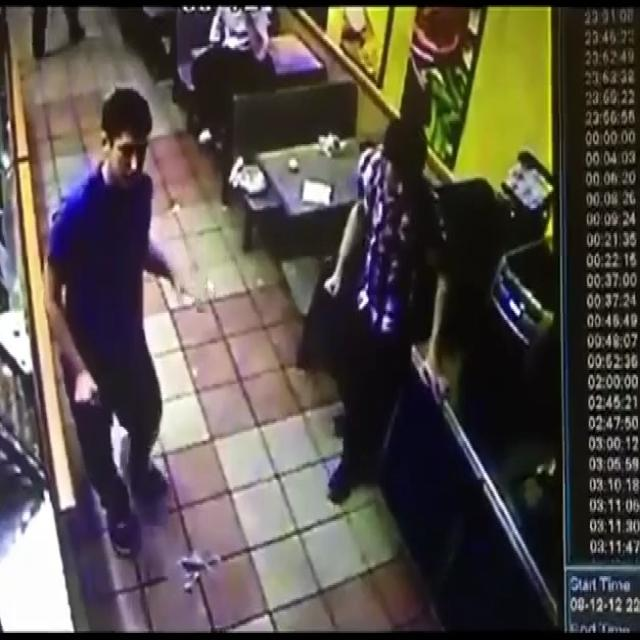fight: (45, 89, 186, 551)
